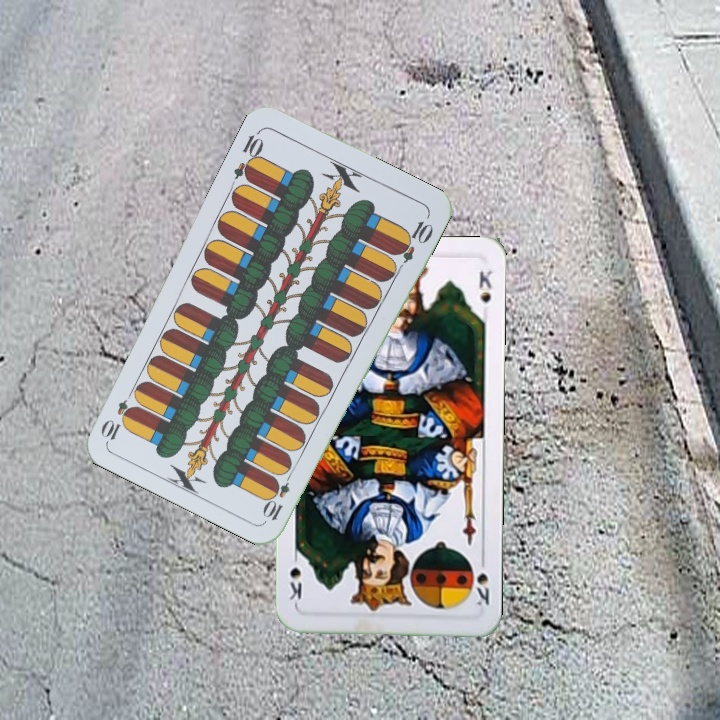E10: (229, 126, 267, 184), (261, 466, 296, 523)
SK: (471, 552, 492, 609)
